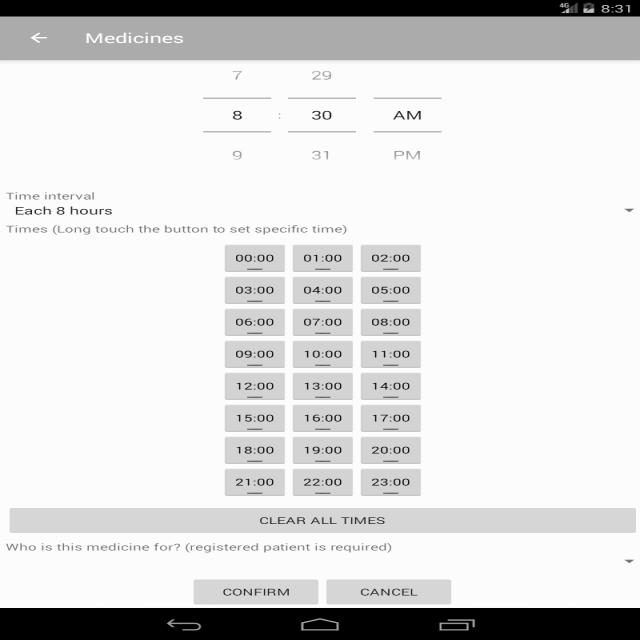Button: (3, 503, 638, 537), (325, 575, 457, 609), (188, 576, 317, 608), (351, 463, 427, 498), (284, 242, 362, 276), (217, 398, 286, 436), (218, 463, 289, 499), (352, 368, 426, 402), (355, 305, 426, 339), (220, 306, 290, 340)
ImageButton: (21, 28, 59, 50)
TextView: (4, 541, 398, 554), (0, 222, 351, 235), (1, 184, 118, 218), (82, 26, 188, 49), (386, 100, 432, 124), (222, 106, 255, 124)
